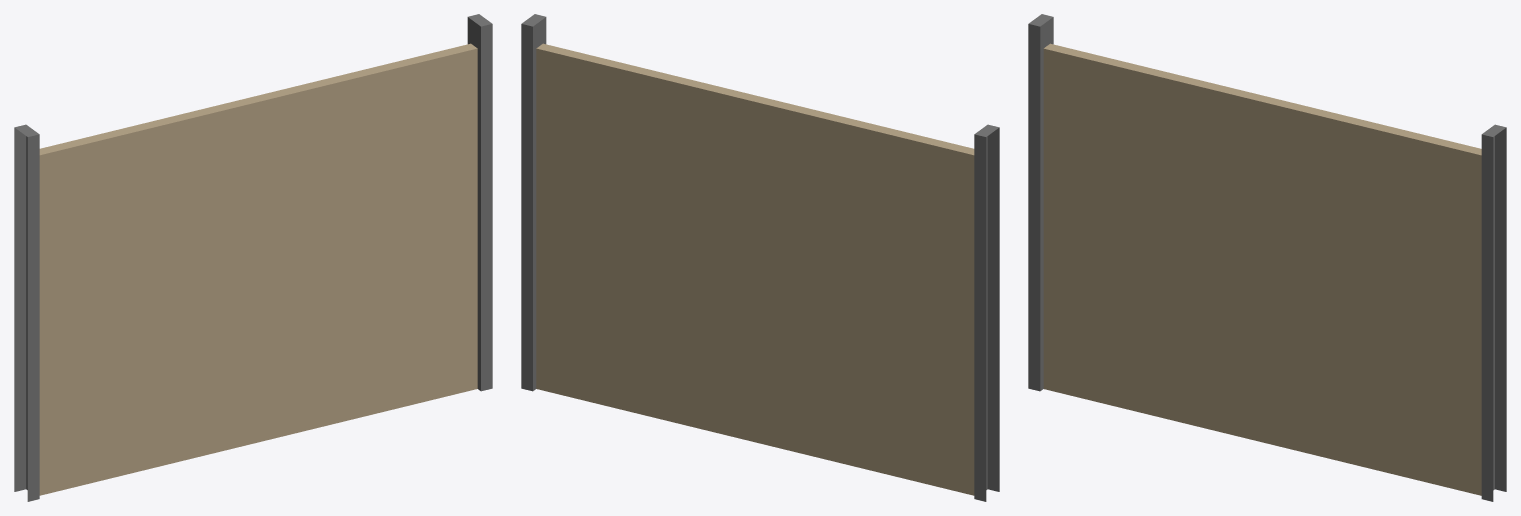
Rendered from SM_Fence_400.fbx.
3 renders of one model, left to right at view 1: azimuth 30°, elevation 25°; view 2: azimuth 150°, elevation 25°; view 3: azimuth 330°, elevation 25°, orthographic.
Parts seen in each view (by area): view 1: SM_Fence_400; view 2: SM_Fence_400; view 3: SM_Fence_400.
Part boxes in pixels (bbox=[...]): SM_Fence_400: bbox=[14, 14, 492, 501]; SM_Fence_400: bbox=[521, 14, 999, 501]; SM_Fence_400: bbox=[1028, 14, 1506, 501].
Bounding box in the file's own units: 400 × 300 × 20.
